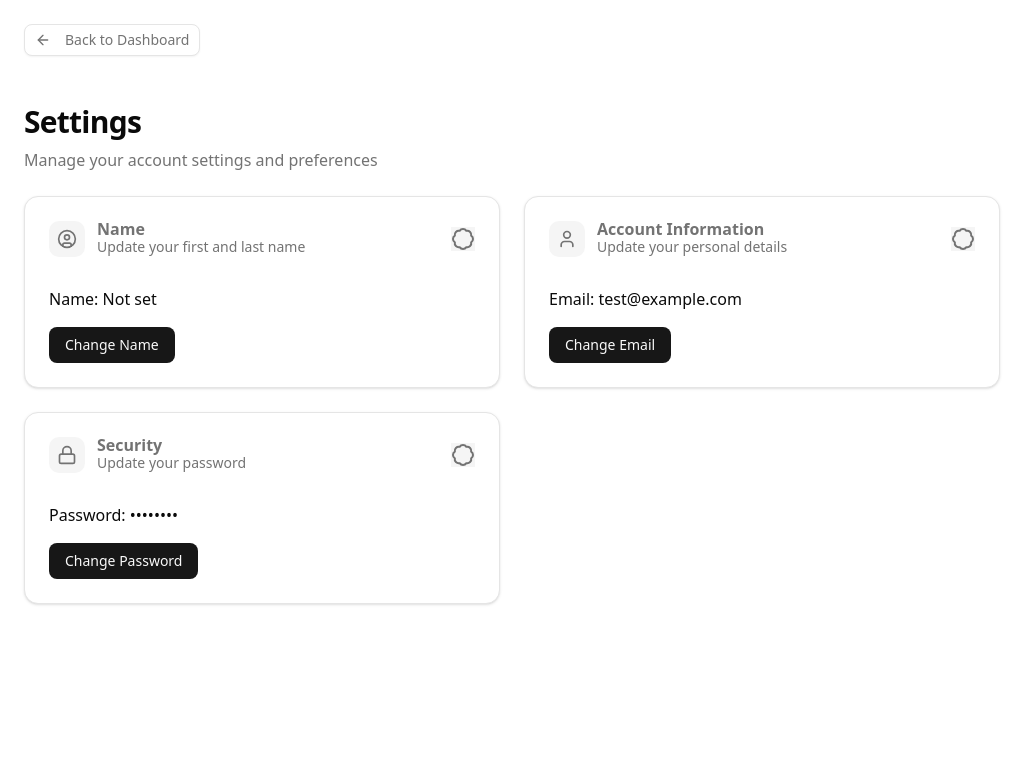
it: Settings Page - Email Update Functionality › opens modal when "Change Email" button is clicked and shows password field
Click the button "Change Email" at {"x": 610, "y": 345}, box [549,327,671,363]
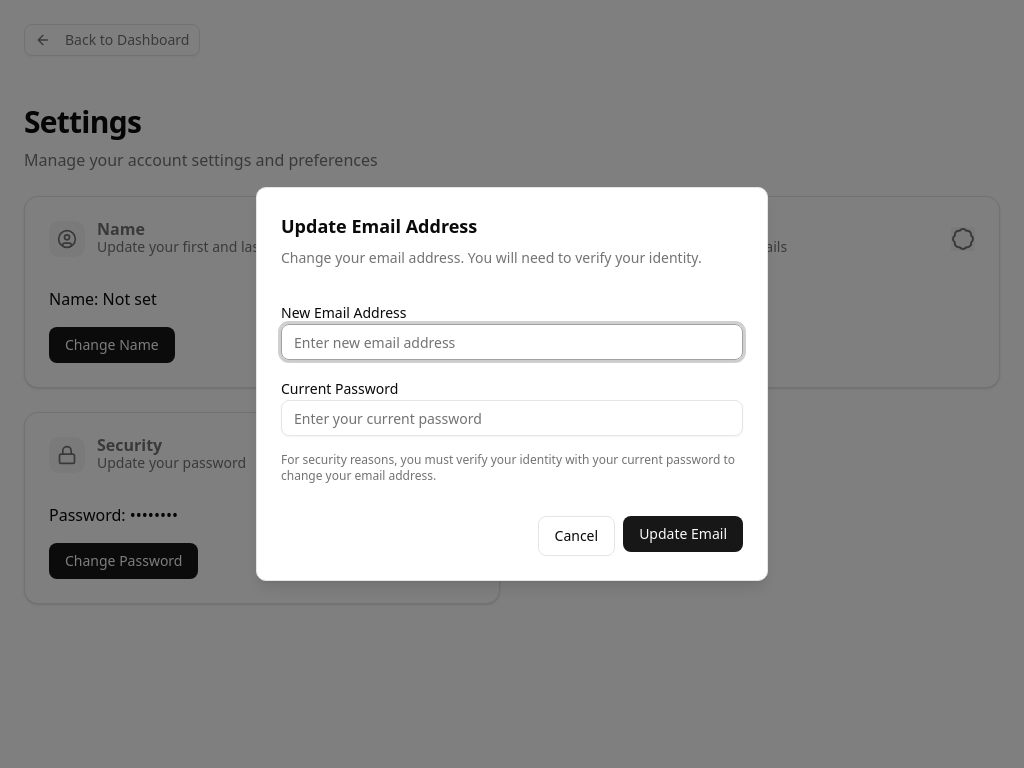
Expected: the heading "Update Email Address" is shown, [281,214,477,238]
Expected: the field with placeholder "Enter new email address" is shown, [281,324,743,360]
Expected: the password field with placeholder "Enter your current password" is shown, [281,400,743,436]
